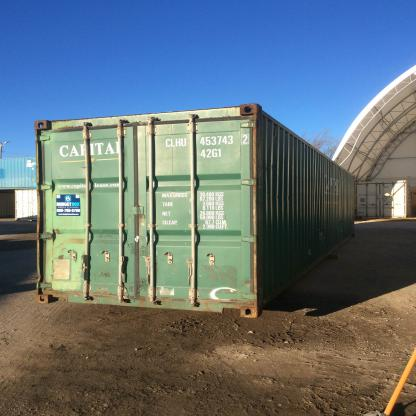Damage: (199, 260, 240, 292), (115, 235, 156, 261), (120, 275, 156, 296)
